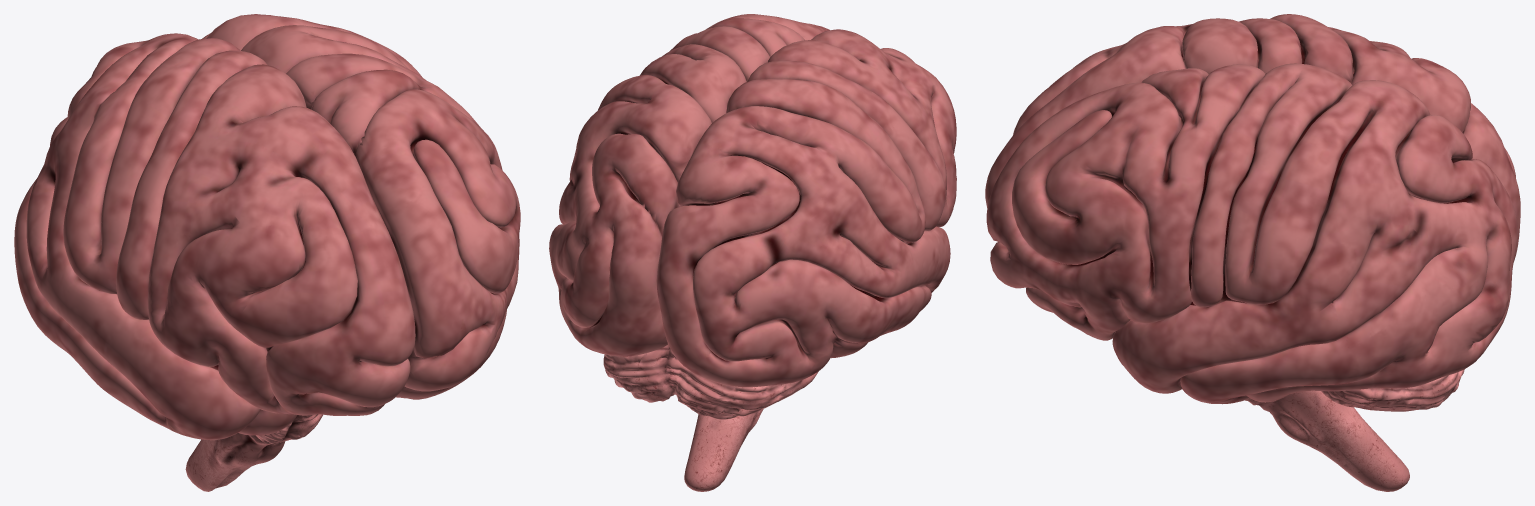
3 renders of one model, left to right at view 1: azimuth 30°, elevation 25°; view 2: azimuth 150°, elevation 25°; view 3: azimuth 270°, elevation 25°, orthographic. The views are drawn at different scales.
Visible parts, largest first — view 1: BRAIN_LOW, BRAIN; view 2: BRAIN_LOW, cerebellum, BRAIN; view 3: BRAIN_LOW, BRAIN, cerebellum.
Boxes of the visible parts, x1,y1,x2,y2 form: BRAIN_LOW: [14, 14, 520, 440]; BRAIN: [185, 414, 322, 491]; BRAIN_LOW: [549, 14, 956, 387]; cerebellum: [603, 345, 818, 419]; BRAIN: [684, 409, 763, 491]; BRAIN_LOW: [985, 14, 1520, 404]; BRAIN: [1245, 390, 1409, 491]; cerebellum: [1321, 369, 1464, 411].
Size of the model in its own units: 4.4 by 5.09 by 5.55.
Materials: 3 (3 with a texture image).
